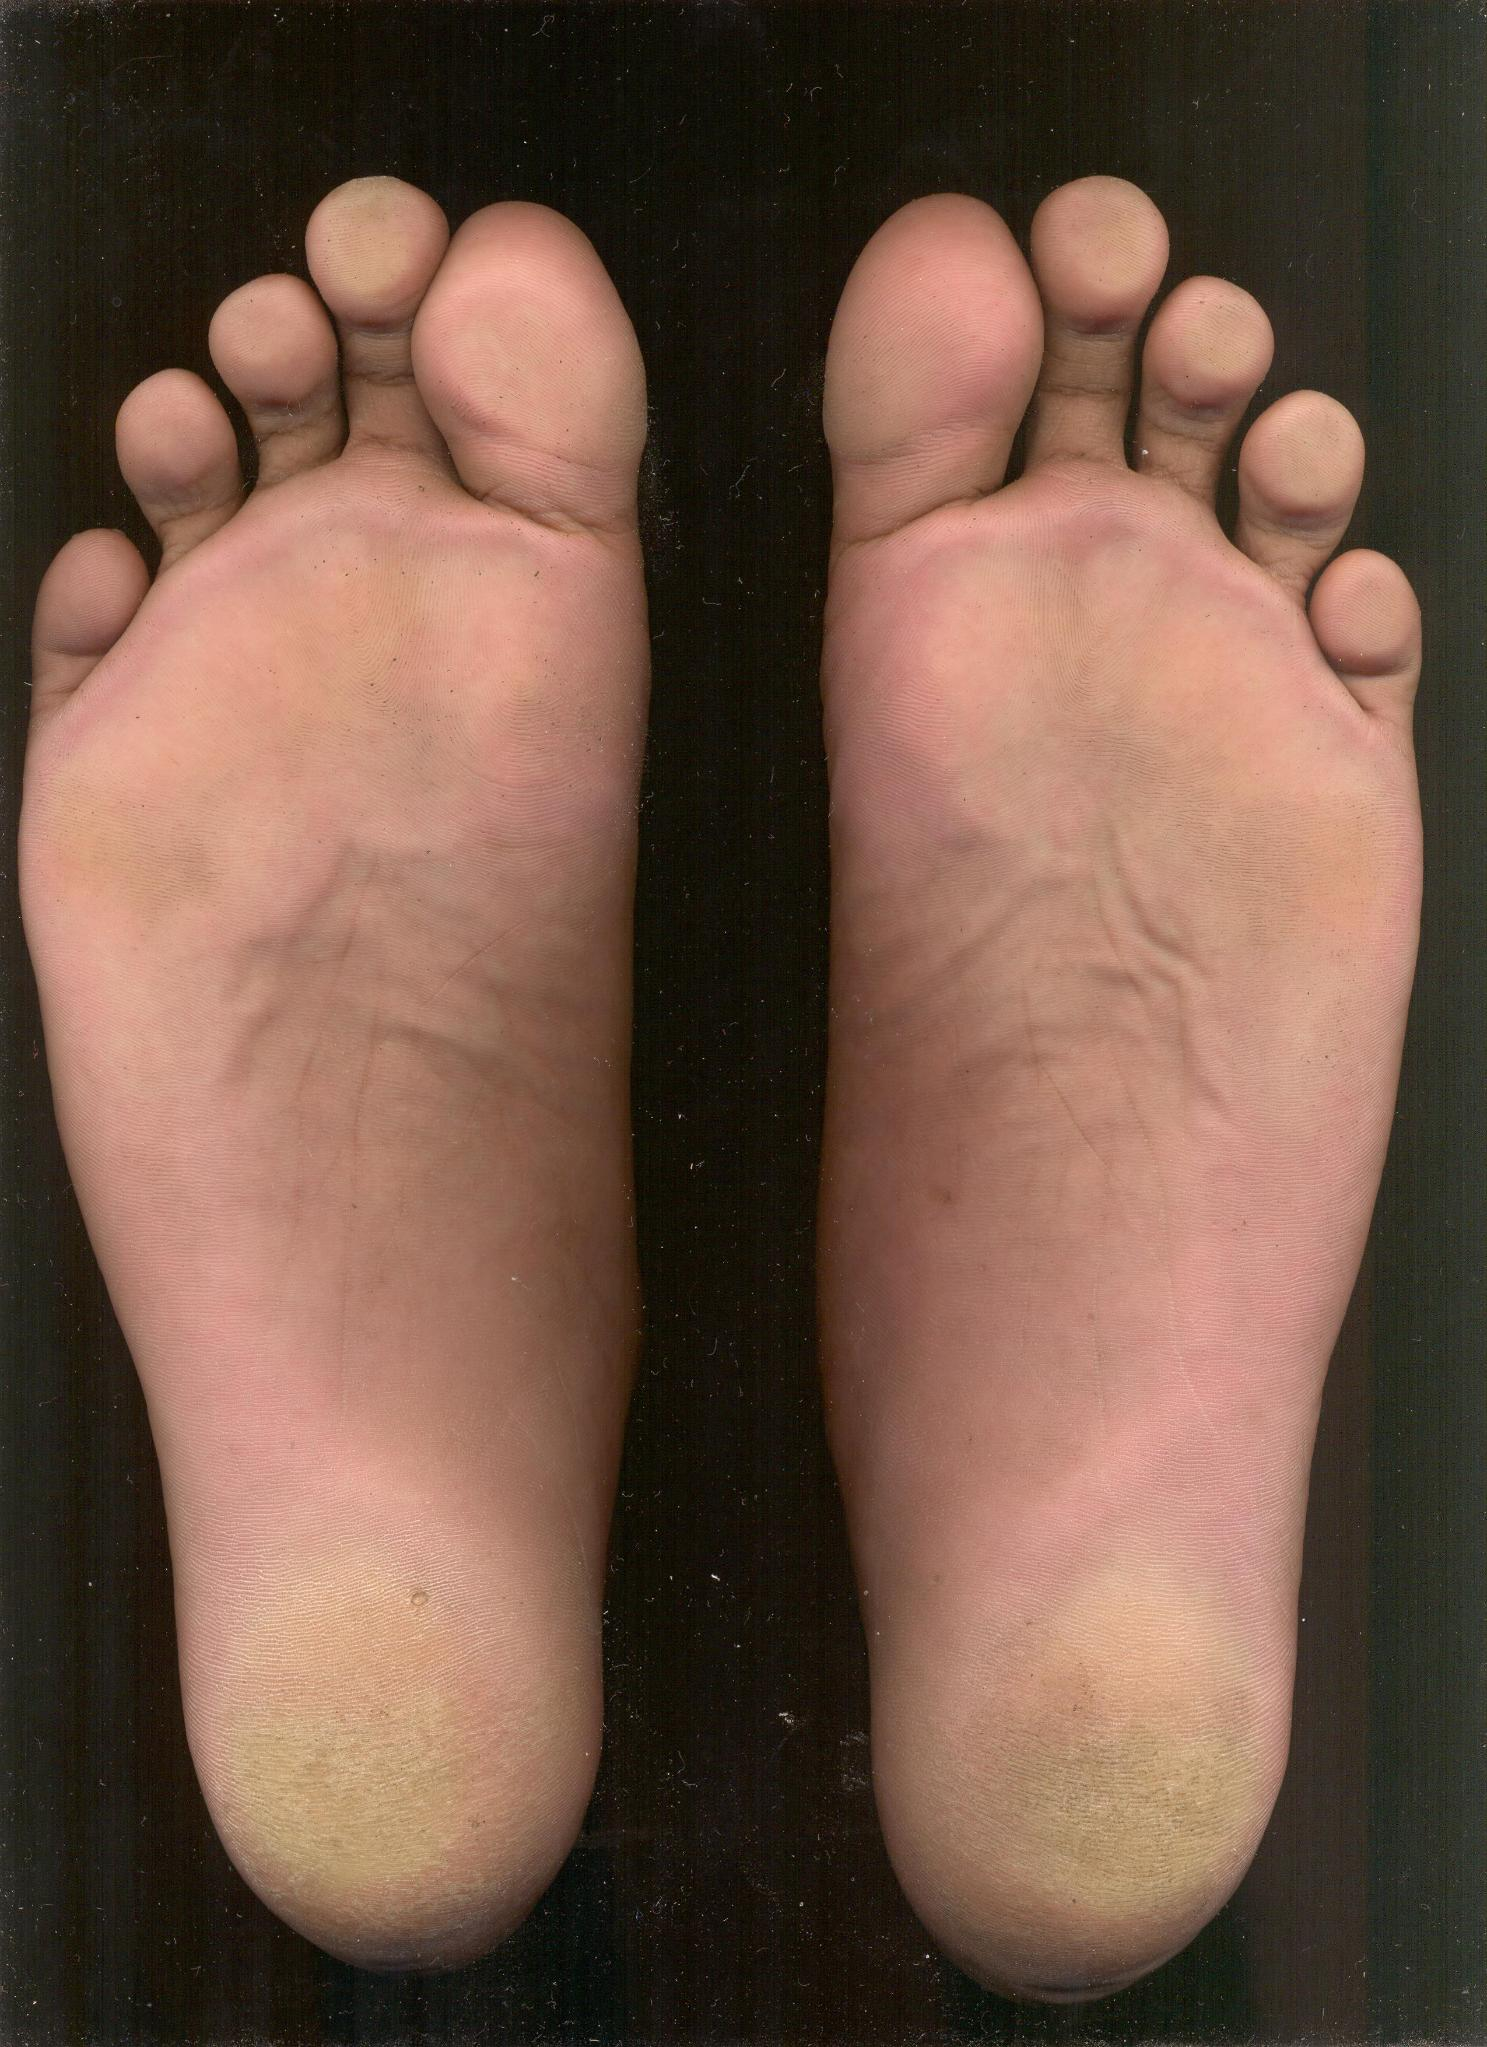Present: (17, 164, 694, 1966), (812, 170, 1458, 2012)
